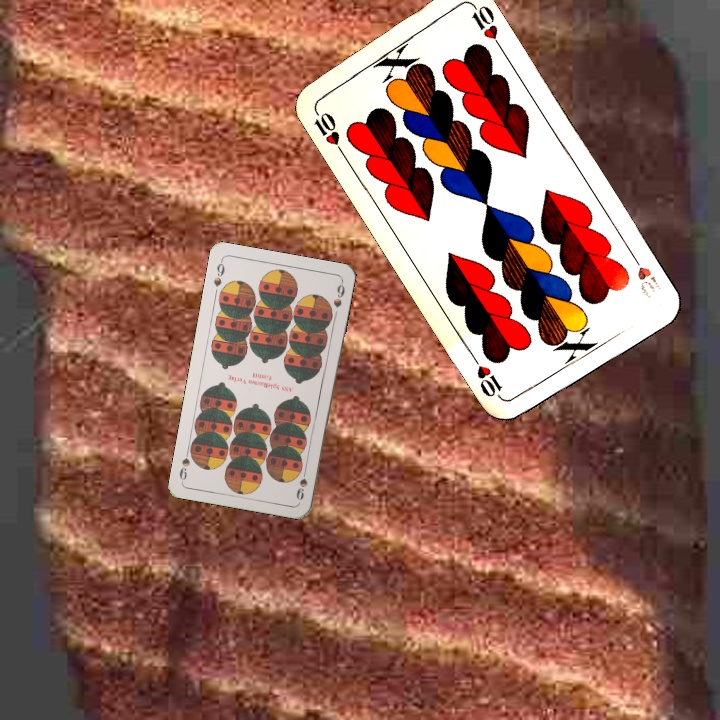H10: (625, 247, 665, 301), (309, 103, 347, 157)
S9: (292, 463, 310, 503), (210, 256, 227, 289)
